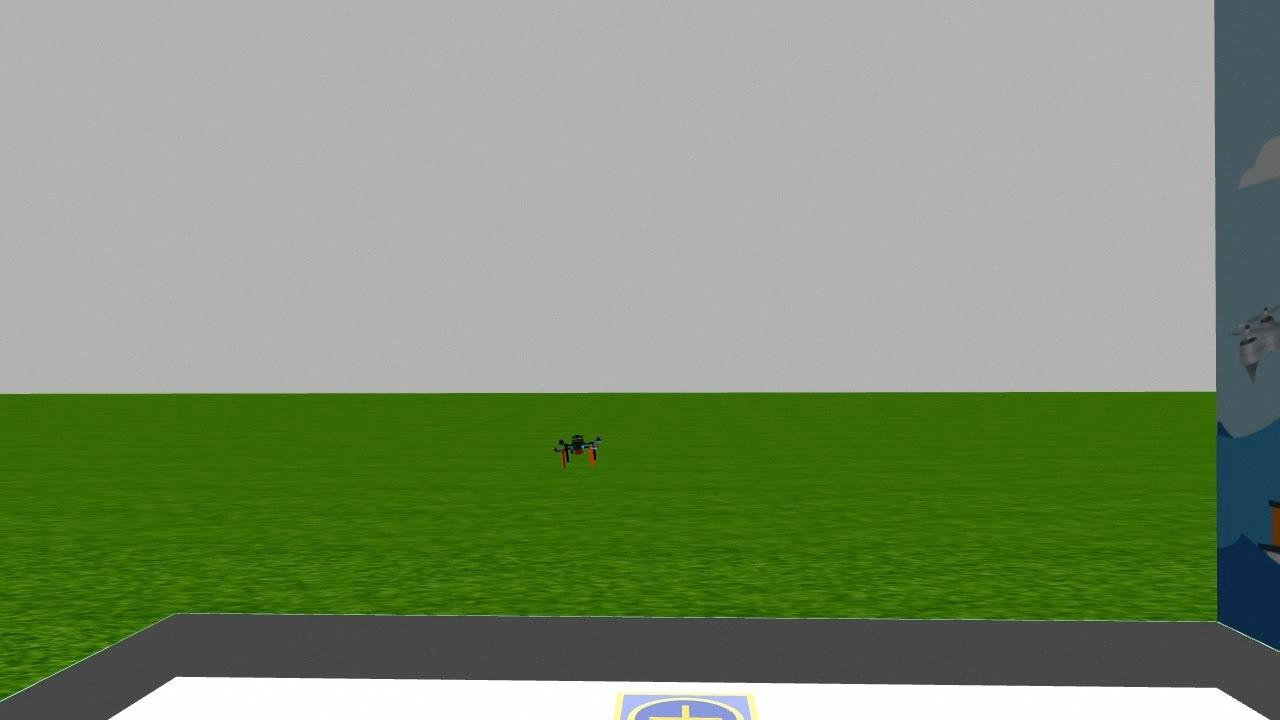UAV: (532, 419, 622, 479)
